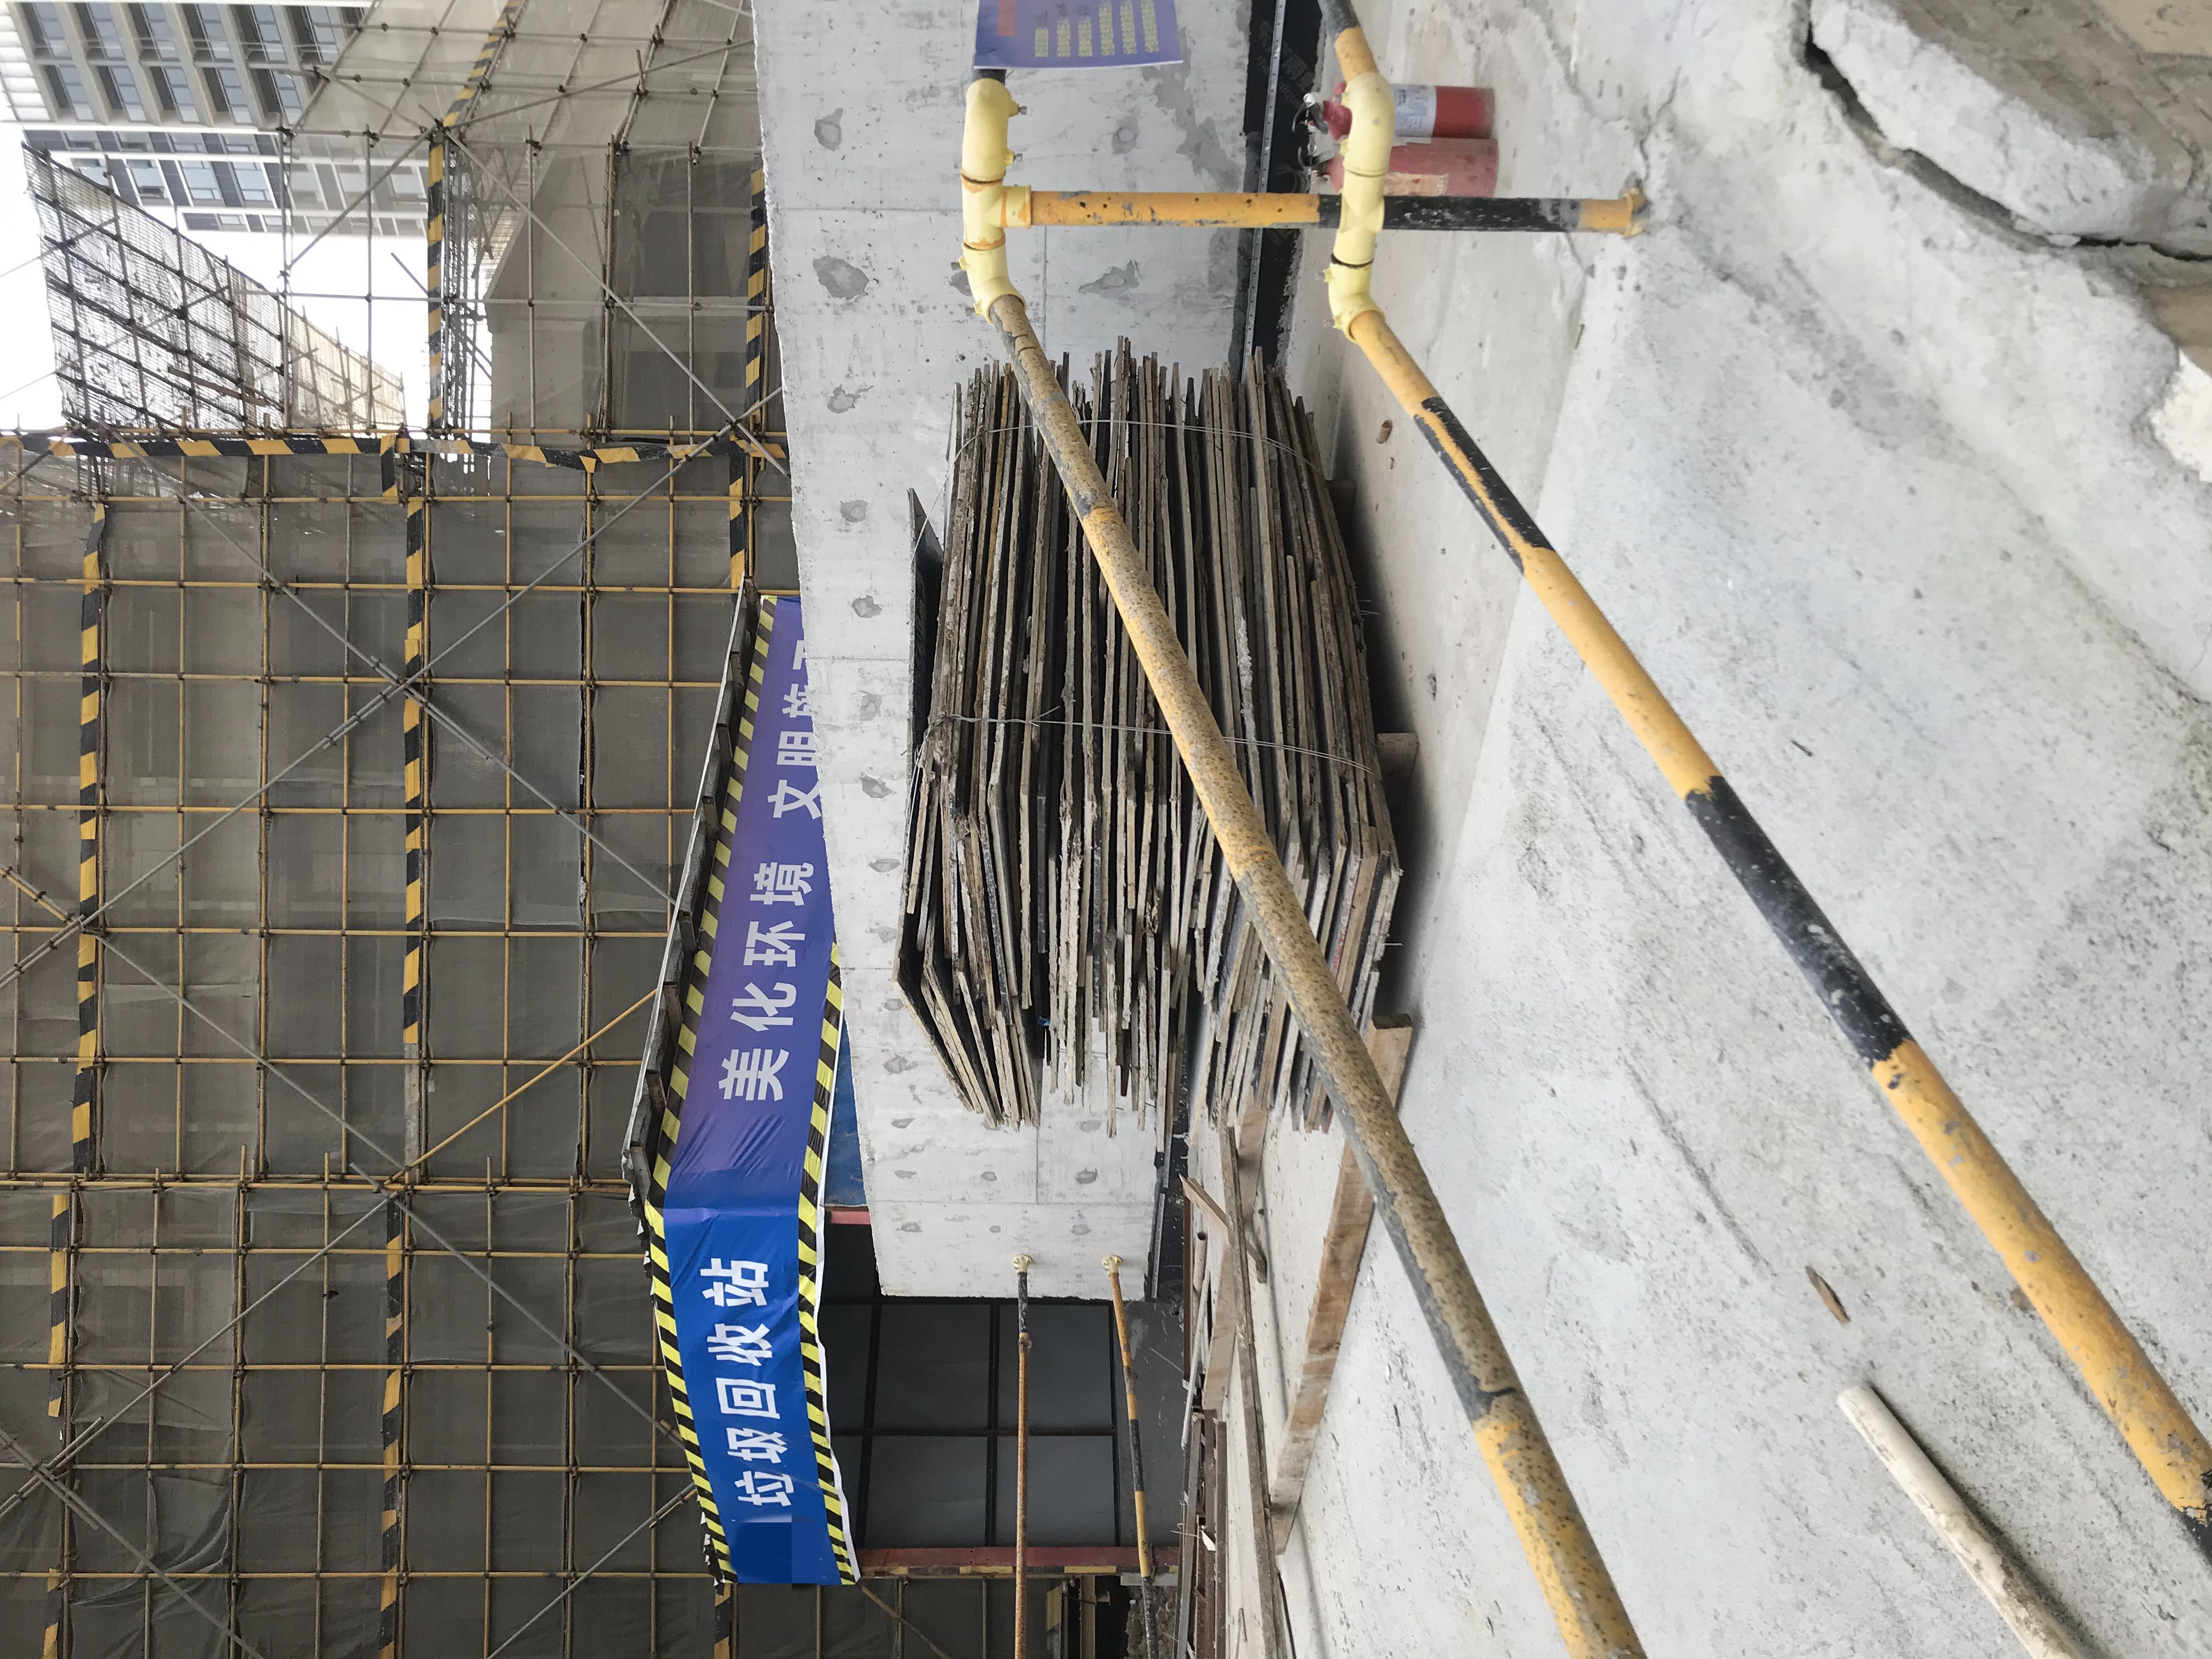board: (900, 364, 1407, 1126)
slogan: (674, 594, 852, 1195)
